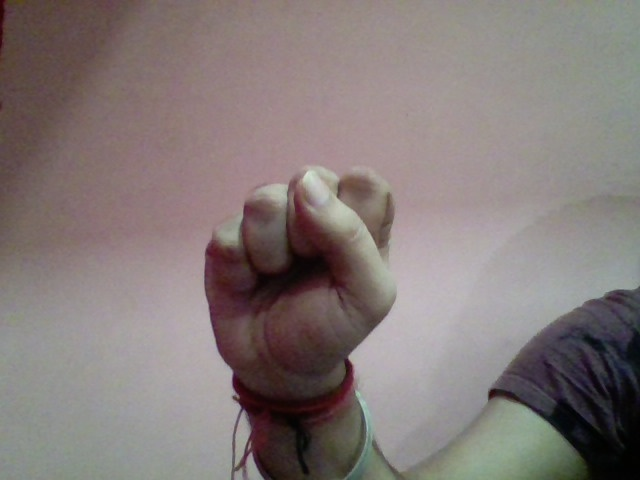s: (193, 159, 418, 382)
